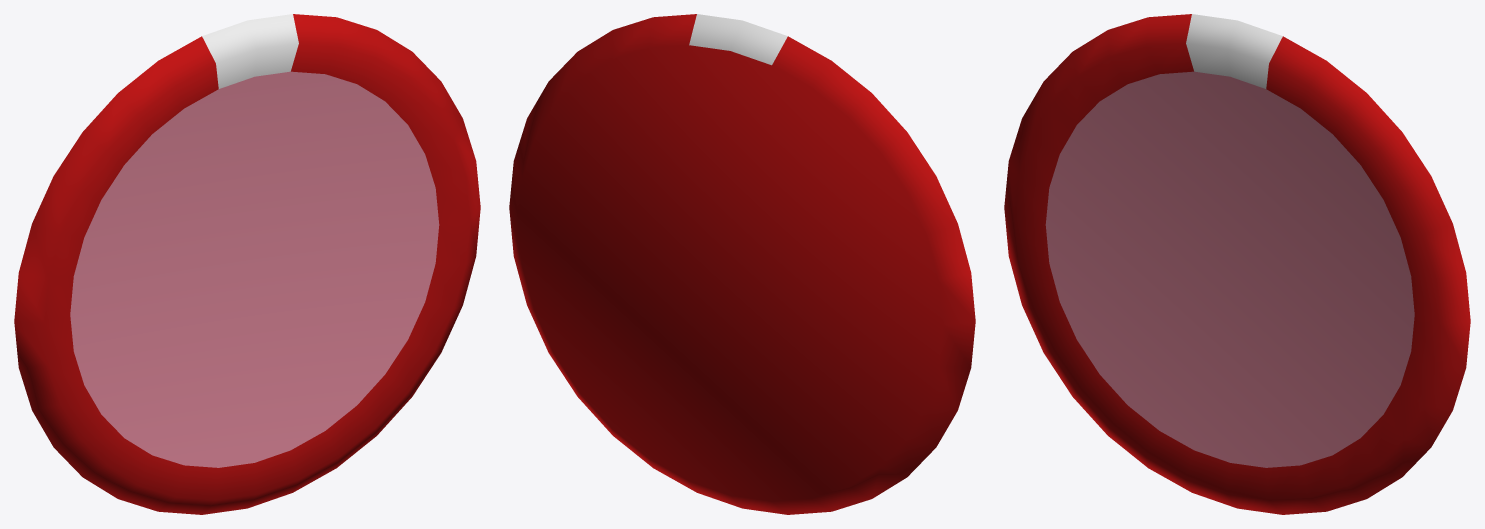
Rendered from marker.glb.
3 views of the same model, side by side, from view 1: azimuth 30°, elevation 25°; view 2: azimuth 150°, elevation 25°; view 3: azimuth 330°, elevation 25° (orthographic).
Visible parts, largest first — view 1: Cylinder; view 2: Cylinder; view 3: Cylinder.
Part boxes in pixels (x1,y1,x2,y2): Cylinder: [14, 14, 480, 514]; Cylinder: [509, 14, 975, 514]; Cylinder: [1004, 14, 1470, 514].
Size of the model in its own units: 2 by 2 by 0.1632.
